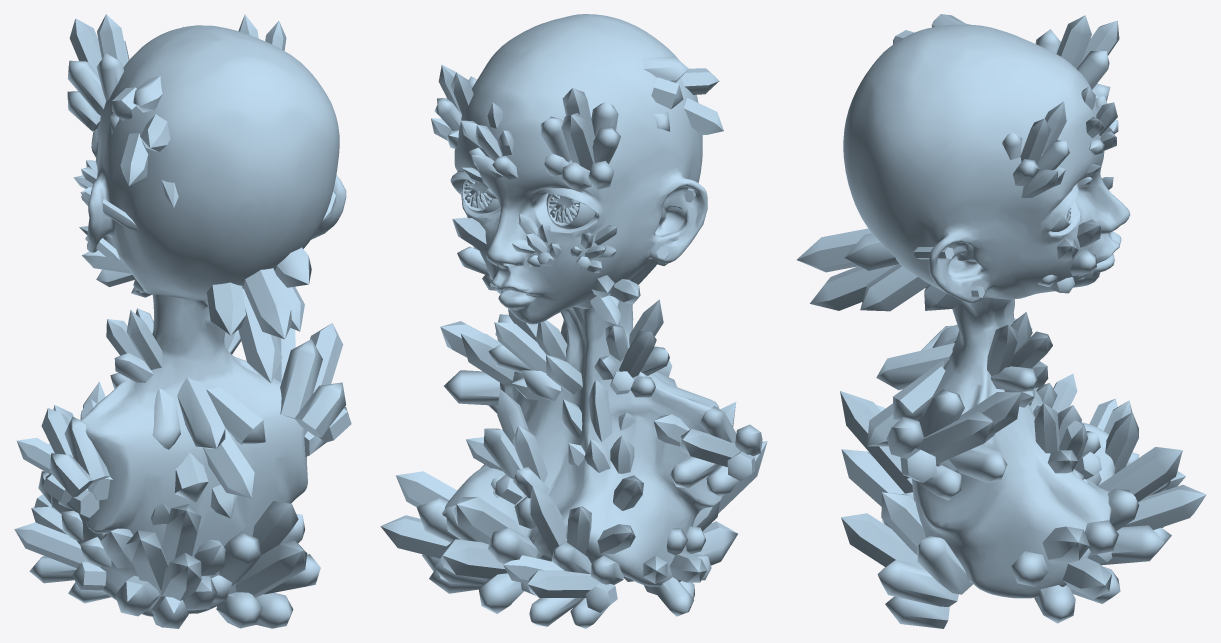
File: scene-processed.glb
3 views of the same model, side by side, from view 1: azimuth 30°, elevation 25°; view 2: azimuth 150°, elevation 25°; view 3: azimuth 270°, elevation 25° (orthographic).
Visible parts, largest first — view 1: Object_2; view 2: Object_2; view 3: Object_2.
Part boxes in pixels (x1,y1,x2,y2): Object_2: (14,14,351,628); Object_2: (380,14,767,628); Object_2: (797,14,1206,628).
Size of the model in its own units: 0.2935 by 0.5282 by 0.3402.
